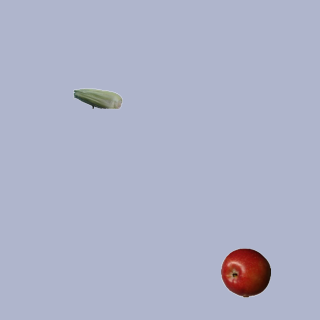Apple Braeburn: (220, 247, 270, 297)
Corn Husk: (72, 73, 122, 123)
